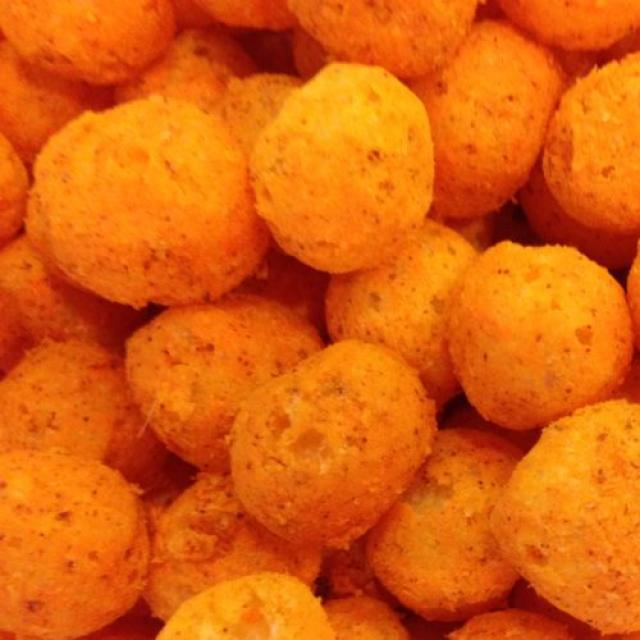Chips packaged: (5, 5, 629, 619)
